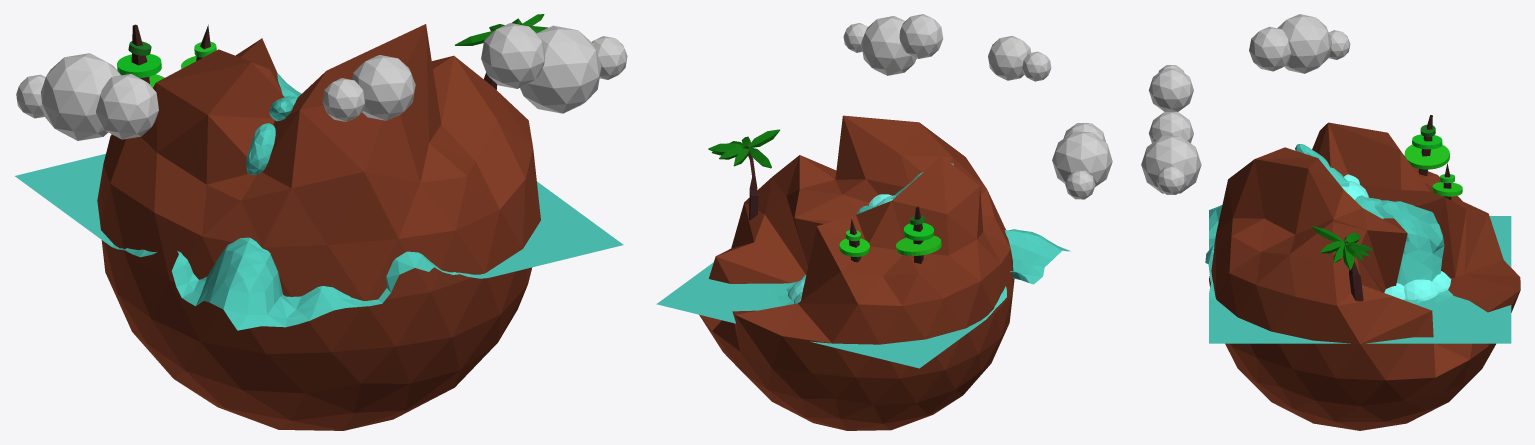
File: all.obj
3 renders of one model, left to right at view 1: azimuth 30°, elevation 25°; view 2: azimuth 150°, elevation 25°; view 3: azimuth 270°, elevation 25°, orthographic. The views are drawn at different scales.
Visible parts, largest first — view 1: earth_Icosphere, water_Plane, cloud-left-1_Icosphere.005, cloud-left-3_Icosphere.010, cloud-left-2_Icosphere.006, derevo-2-green-1_Cylinder.003, palma-green-1_Cube.026_Cube.006; view 2: earth_Icosphere, water_Plane, cloud-left-1_Icosphere.005, cloud-left-3_Icosphere.010, cloud-left-2_Icosphere.006, palma-green-1_Cube.026_Cube.006, derevo-2-green-3_Cylinder.004, palma-base_Cube.021_Cube; view 3: earth_Icosphere, water_Plane, cloud-left-3_Icosphere.010, cloud-left-1_Icosphere.005, cloud-left-2_Icosphere.006, water-step-2_Icosphere.004, derevo-2-green-3_Cylinder.004, palma-green-1_Cube.026_Cube.006, palma-green-2_Cube.023_Cube.003, palma-base_Cube.021_Cube, water-step-1_Icosphere.001.
Part boxes in pixels (bbox=[...]): earth_Icosphere: bbox=[97, 24, 540, 430]; water_Plane: bbox=[15, 73, 623, 330]; cloud-left-1_Icosphere.005: bbox=[481, 23, 627, 113]; cloud-left-3_Icosphere.010: bbox=[16, 53, 158, 140]; cloud-left-2_Icosphere.006: bbox=[322, 55, 415, 121]; derevo-2-green-1_Cylinder.003: bbox=[117, 54, 161, 77]; palma-green-1_Cube.026_Cube.006: bbox=[455, 14, 547, 45]; earth_Icosphere: bbox=[699, 115, 1014, 430]; water_Plane: bbox=[656, 163, 1070, 368]; cloud-left-1_Icosphere.005: bbox=[843, 14, 943, 75]; cloud-left-3_Icosphere.010: bbox=[1052, 123, 1112, 199]; cloud-left-2_Icosphere.006: bbox=[988, 35, 1051, 81]; palma-green-1_Cube.026_Cube.006: bbox=[708, 143, 771, 168]; derevo-2-green-3_Cylinder.004: bbox=[896, 235, 941, 255]; palma-base_Cube.021_Cube: bbox=[744, 145, 758, 220]; earth_Icosphere: bbox=[1209, 122, 1520, 430]; water_Plane: bbox=[1205, 144, 1511, 343]; cloud-left-3_Icosphere.010: bbox=[1249, 14, 1350, 73]; cloud-left-1_Icosphere.005: bbox=[1141, 112, 1201, 194]; cloud-left-2_Icosphere.006: bbox=[1148, 65, 1193, 111]; water-step-2_Icosphere.004: bbox=[1384, 271, 1451, 300]; derevo-2-green-3_Cylinder.004: bbox=[1404, 144, 1449, 169]; palma-green-1_Cube.026_Cube.006: bbox=[1343, 232, 1373, 270]; palma-green-2_Cube.023_Cube.003: bbox=[1311, 226, 1345, 262]; palma-base_Cube.021_Cube: bbox=[1344, 241, 1363, 301]; water-step-1_Icosphere.001: bbox=[1341, 174, 1368, 199].
Size of the model in its own units: 2.84 by 2.35 by 2.51.
